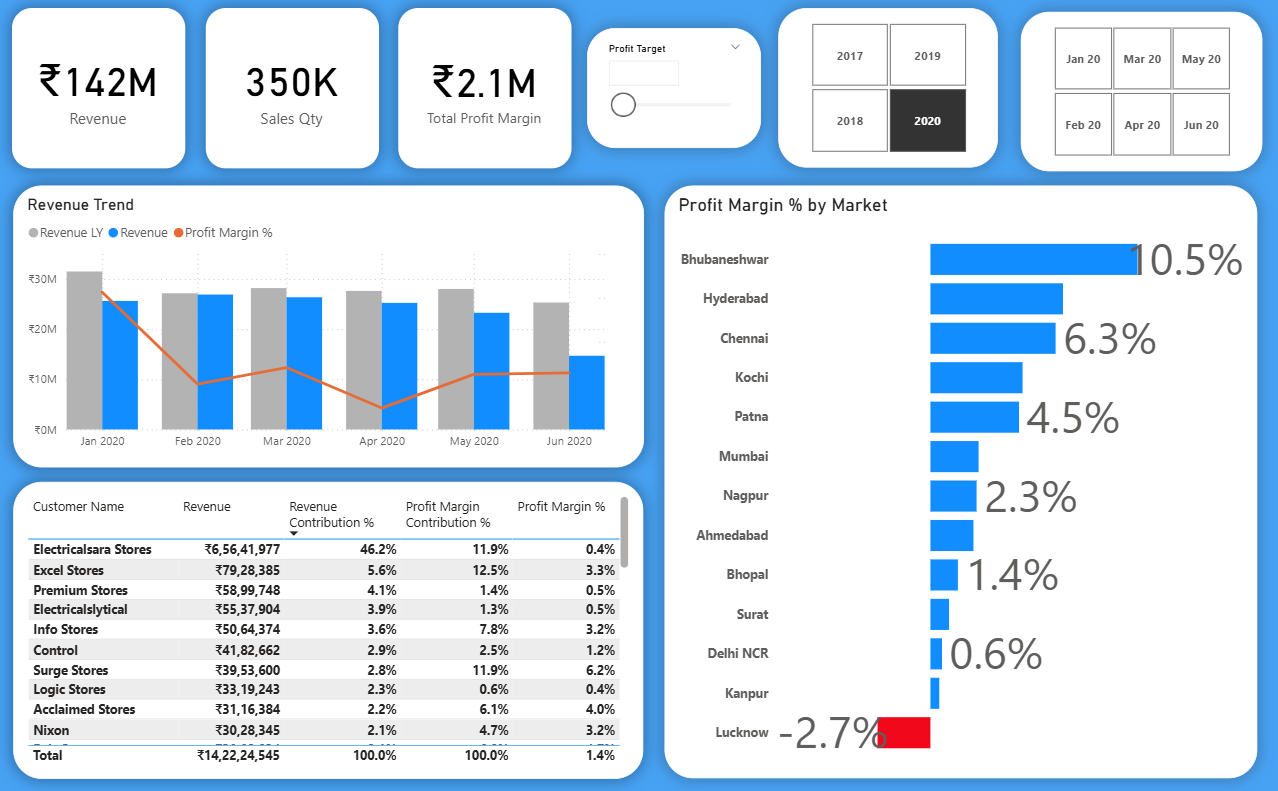

The dashboard page shown, as its layout file describes it:
{"tool":"powerbi","page":{"name":"Profits","canvas":[1350,850],"ordinal":0},"visuals":[{"type":"card","fields":{"Values":["BaseMeasures.Revenue"]},"box":[15.8,10.7,182,169],"z":0},{"type":"card","fields":{"Values":["BaseMeasures.Sales Qty"]},"box":[219.2,10.7,182,169],"z":1000},{"type":"barChart","title":"Profit Margin % by Market","fields":{"Category":["sales markets.zone","sales markets.markets_name","sales customers.custmer_name"],"Y":["BaseMeasures.Profit Margin %"]},"box":[702.9,197.1,624.3,624.3],"z":3000},{"type":"slicer","fields":{"Values":["sales date.year"]},"box":[822.9,10.7,231,168],"z":4000},{"type":"slicer","fields":{"Values":["sales date.cy_date"]},"box":[1077.4,14.8,254,168],"z":5000},{"type":"tableEx","fields":{"Values":["sales customers.custmer_name","BaseMeasures.Revenue","BaseMeasures.Revenue Contribution %","BaseMeasures.Profit Margin Contribution %","BaseMeasures.Profit Margin %"]},"box":[17.1,508.6,662.9,312.9],"z":6000},{"type":"lineClusteredColumnComboChart","title":"Revenue Trend","fields":{"Category":["sales date.cy_date"],"Y":["BaseMeasures.Revenue LY","BaseMeasures.Revenue"],"Y2":["BaseMeasures.Profit Margin %"]},"box":[17.1,197.1,664.3,297.1],"z":7000},{"type":"card","fields":{"Values":["BaseMeasures.Total_Profit_Margin"]},"box":[422.5,10.7,182,169],"z":8000},{"type":"slicer","fields":{"Values":["Profit Target.Profit Target"]},"box":[621.3,30.9,183.3,126.7],"z":9000}]}

Visuals, with their boxes in screenshot pixels (x1, y1, x2, y2), scaled from the page's 1350x850 canvas onto the 1278x791 screenshot:
card - BaseMeasures.Revenue: <bbox>15, 10, 187, 167</bbox>
card - BaseMeasures.Sales Qty: <bbox>208, 10, 380, 167</bbox>
"Profit Margin % by Market" barChart: <bbox>665, 183, 1256, 764</bbox>
slicer - sales date.year: <bbox>779, 10, 998, 166</bbox>
slicer - sales date.cy_date: <bbox>1020, 14, 1260, 170</bbox>
tableEx - sales customers.custmer_name x BaseMeasures.Revenue: <bbox>16, 473, 644, 764</bbox>
"Revenue Trend" lineClusteredColumnComboChart: <bbox>16, 183, 645, 460</bbox>
card - BaseMeasures.Total_Profit_Margin: <bbox>400, 10, 572, 167</bbox>
slicer - Profit Target.Profit Target: <bbox>588, 29, 762, 147</bbox>
